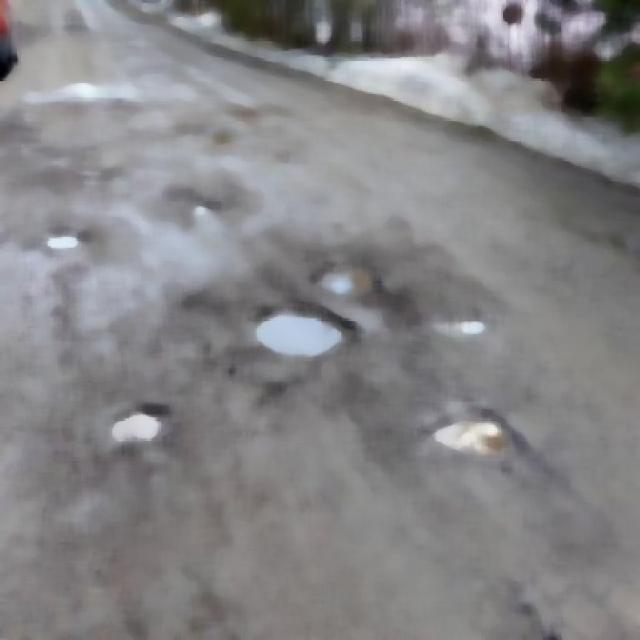Pothole: (245, 300, 364, 362), (432, 397, 526, 466), (432, 307, 506, 351), (108, 398, 167, 444), (19, 137, 75, 177), (317, 262, 388, 289), (190, 193, 222, 227), (41, 233, 90, 255), (194, 128, 237, 148), (97, 96, 125, 115), (82, 166, 107, 183), (239, 112, 267, 125), (272, 153, 290, 161)
